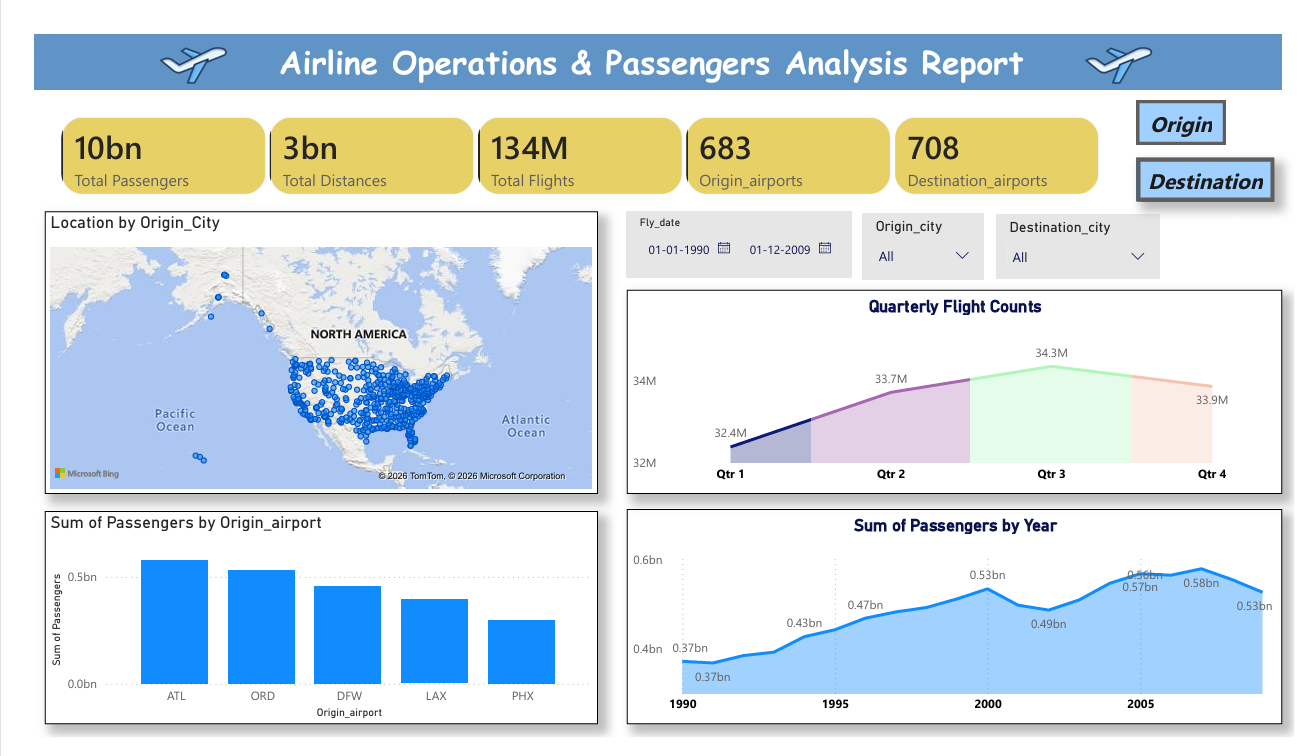

What the dashboard file says about the page in this screenshot:
{"tool":"powerbi","page":{"name":"Airlines Analysis Dashboard ","canvas":[1280,720],"ordinal":0},"visuals":[{"type":"textbox","box":[10,11.7,1258.3,56.7],"z":0},{"type":"cardVisual","fields":{"Data":["Sum(Airports.Passengers)","Sum(Airports.Distance)","Sum(Airports.Flights)","Count(Airports.Origin_airport)","Count(Airports.Destination_airport)"]},"box":[19.6,78.4,1083.3,112.7],"z":1000},{"type":"clusteredColumnChart","fields":{"Y":["Sum(Airports.Passengers)"],"Category":["Airports.Origin_airport"]},"box":[19.5,491.7,558.4,214.9],"z":2000},{"type":"areaChart","fields":{"Category":["Airports.Fly_date.Variation.Date Hierarchy.Year"],"Y":["Sum(Airports.Passengers)"]},"box":[607.3,490,661,216.5],"z":3000},{"type":"slicer","fields":{"Values":["Airports.Fly_date"]},"box":[607.3,190.5,226.3,66.7],"z":6000},{"type":"lineChart","title":"Quarterly Flight Counts","fields":{"Category":["Airports.Fly_date.Variation.Date Hierarchy.Quarter"],"Y":["Sum(Airports.Flights)"]},"box":[607.3,268.6,661,206.8],"z":7000},{"type":"slicer","fields":{"Values":["Airports.Origin_city"]},"box":[845,192.1,123.7,65.1],"z":8000},{"type":"slicer","fields":{"Values":["Airports.Destination_city"]},"box":[980.4,192.8,165,65.4],"z":9000},{"type":"actionButton","box":[1120.9,78.4,89.9,44.1],"z":10000},{"type":"map","title":"Location by Origin_City","fields":{"Y":["Airports.Org_airport_lat"],"X":["Airports.Org_airport_long"]},"box":[19.5,190.5,558.4,284.9],"z":11000},{"type":"image","box":[94.4,8.1,151.4,70],"z":12000},{"type":"image","box":[1027.3,8.1,151.4,70],"z":13000},{"type":"actionButton","box":[1120.9,135.6,138.9,44.1],"z":15000}]}

Visuals, with their boxes in screenshot pixels (x1, y1, x2, y2), scaled from the page's 1280x720 canvas onto the 1316x756 screenshot:
textbox: box=[10, 12, 1304, 72]
cardVisual - Sum(Airports.Passengers) x Sum(Airports.Distance): box=[20, 82, 1134, 201]
clusteredColumnChart - Sum(Airports.Passengers) x Airports.Origin_airport: box=[20, 516, 594, 742]
areaChart - Airports.Fly_date.Variation.Date Hierarchy.Year x Sum(Airports.Passengers): box=[624, 514, 1304, 742]
slicer - Airports.Fly_date: box=[624, 200, 857, 270]
"Quarterly Flight Counts" lineChart: box=[624, 282, 1304, 499]
slicer - Airports.Origin_city: box=[869, 202, 996, 270]
slicer - Airports.Destination_city: box=[1008, 202, 1178, 271]
actionButton: box=[1152, 82, 1245, 129]
"Location by Origin_City" map: box=[20, 200, 594, 499]
image: box=[97, 9, 253, 82]
image: box=[1056, 9, 1212, 82]
actionButton: box=[1152, 142, 1295, 189]
